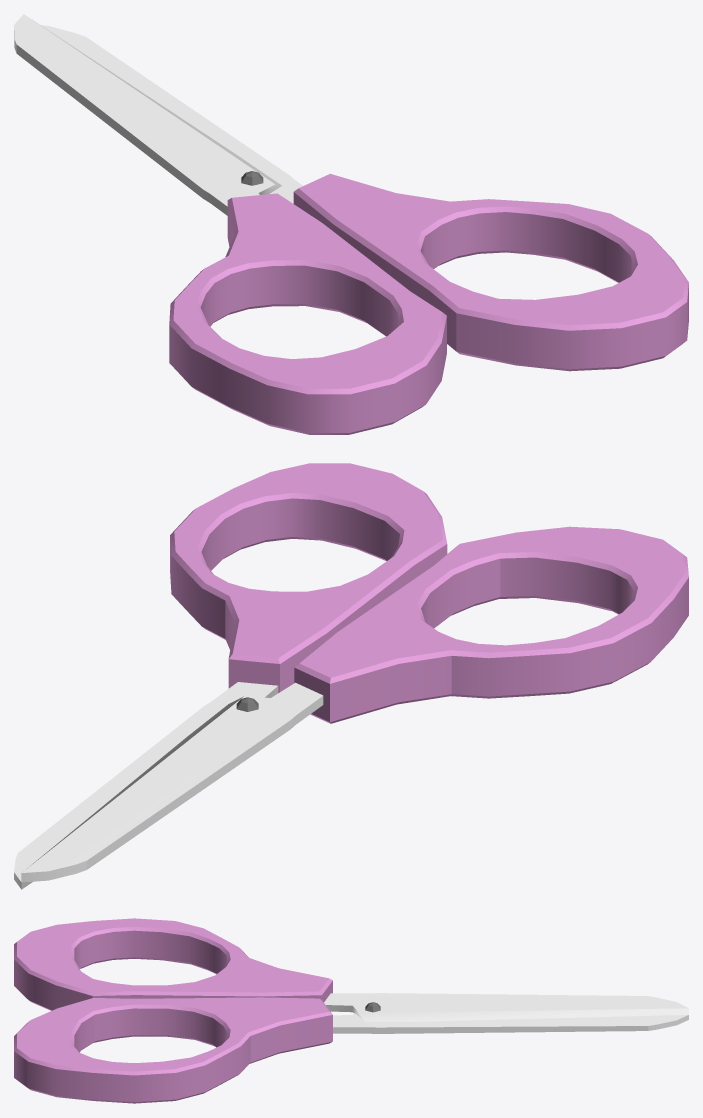
The model's file is Scissors.fbx.
3 renders of one model, top to bottom at view 1: azimuth 30°, elevation 25°; view 2: azimuth 150°, elevation 25°; view 3: azimuth 270°, elevation 25°, orthographic. The views are drawn at different scales.
Parts seen in each view (by area): view 1: polySurface12; view 2: polySurface12; view 3: polySurface12.
Part boxes in pixels (x1,y1,x2,y2): polySurface12: (14, 14, 688, 434); polySurface12: (14, 463, 688, 889); polySurface12: (14, 918, 688, 1103).
Bounding box in the file's own units: 301 × 28.82 × 552.
